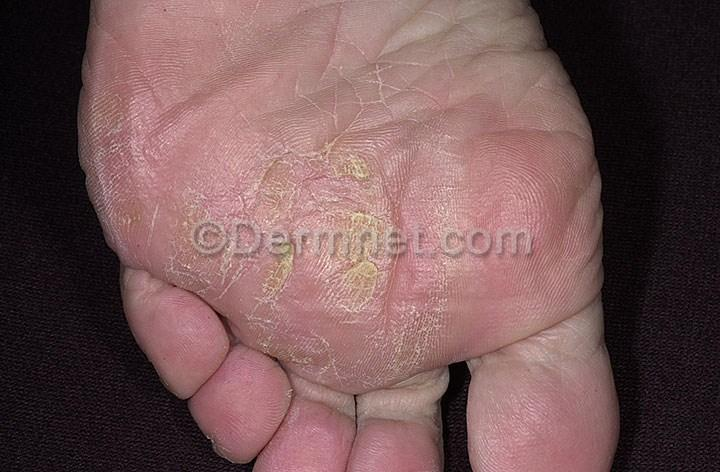Eczema: (236, 137, 410, 220), (249, 259, 406, 311), (97, 163, 156, 253), (265, 327, 352, 386), (172, 257, 246, 318), (382, 321, 451, 375), (169, 173, 221, 221)
